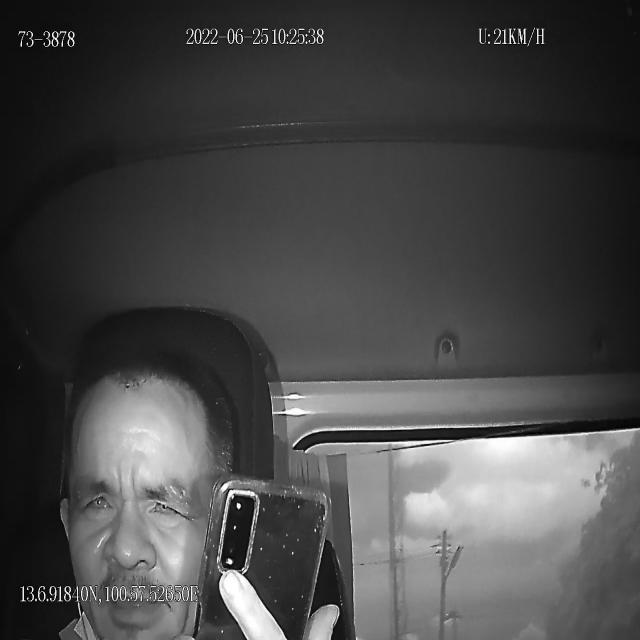phone: (197, 473, 330, 640)
